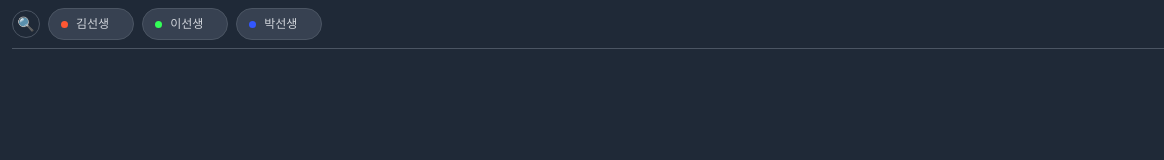
Scenario: TeacherFilterChipBar › 검색 버튼 클릭 시 검색 입력 노출
This screenshot has width=1164, height=160.
Step 1. Click the button named "강사 검색" → [26, 24], box [12,10,40,38]
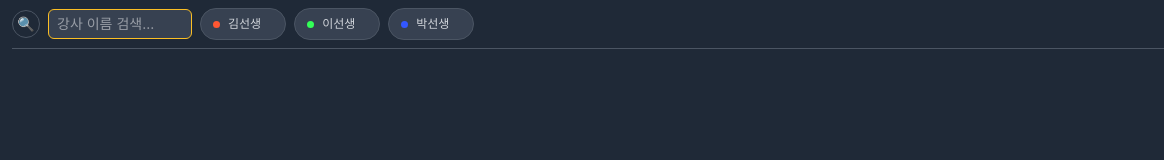
Expected: the field with placeholder "강사 이름 검색..." is shown, [48,9,192,39]
